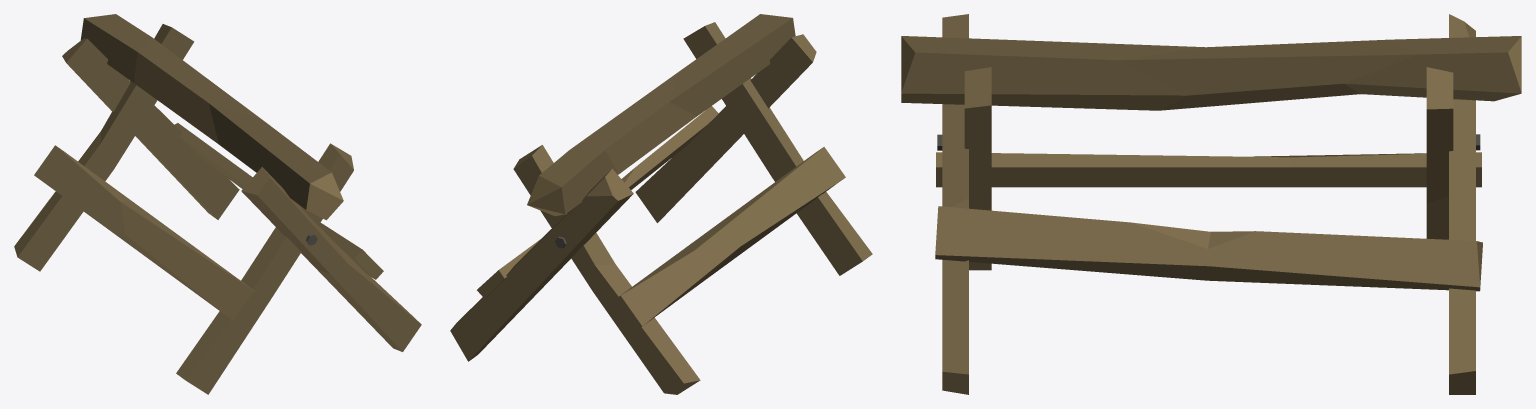
The model's file is BoardStand.fbx.
3 views of the same model, side by side, from view 1: azimuth 30°, elevation 25°; view 2: azimuth 150°, elevation 25°; view 3: azimuth 270°, elevation 25° (orthographic). The views are drawn at different scales.
Visible parts, largest first — view 1: BoardStand; view 2: BoardStand; view 3: BoardStand.
Boxes of the visible parts, x1,y1,x2,y2 form: BoardStand: (14,14,421,394); BoardStand: (450,14,872,394); BoardStand: (901,14,1521,394).
Bounding box in the file's own units: 79.85 × 70.77 × 136.
